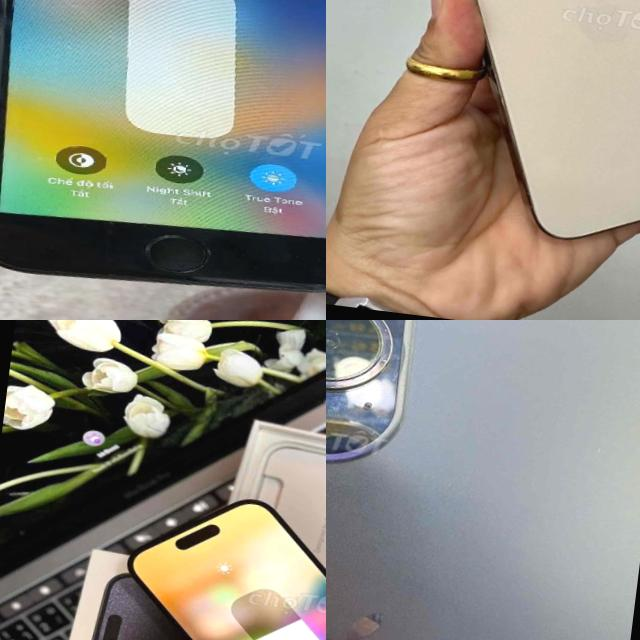scratch: (0, 0, 52, 252), (326, 375, 430, 457), (189, 259, 326, 303)
